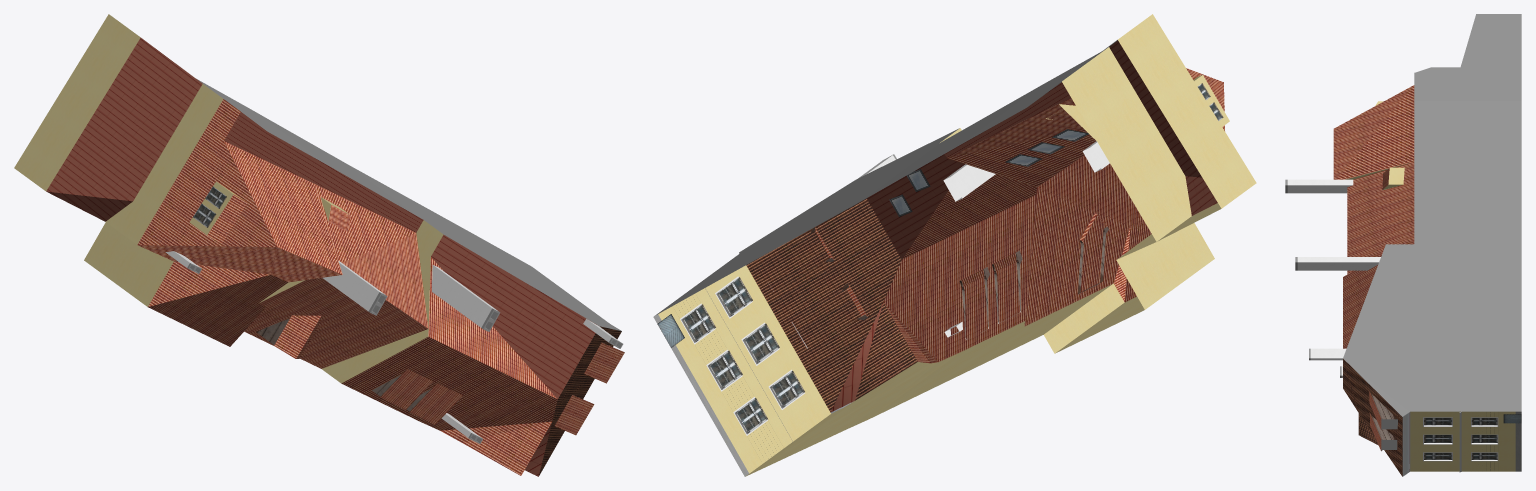
The model's file is Lai_37_1.obj.
The picture shows the model from 3 angles, left to right: view 1: azimuth 30°, elevation 25°; view 2: azimuth 150°, elevation 25°; view 3: azimuth 270°, elevation 25°; orthographic projection. The views are drawn at different scales.
Parts seen in each view (by area): view 1: Lai_37_1; view 2: Lai_37_1; view 3: Lai_37_1.
Part boxes in pixels (<box>): Lai_37_1: <box>14,14,624,476</box>; Lai_37_1: <box>653,14,1256,476</box>; Lai_37_1: <box>1285,14,1521,476</box>.
Size of the model in its own units: 34.52 by 30.58 by 19.04.
